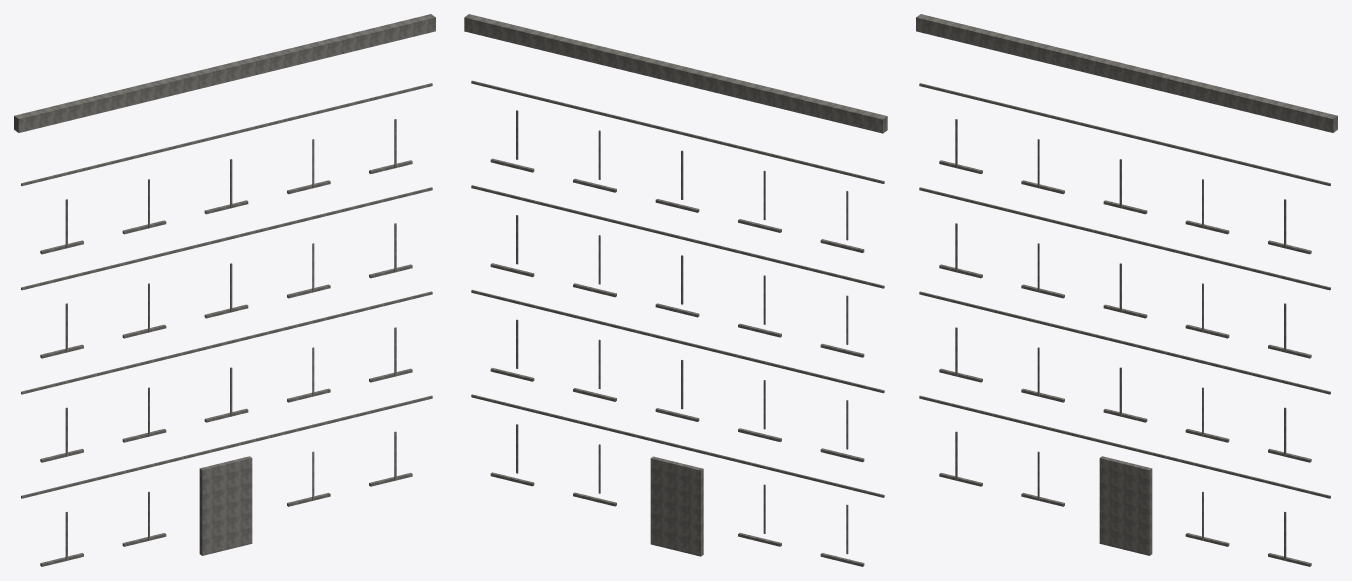
Rendered from Street_BlockR1_Trim.obj.
The picture shows the model from 3 angles, left to right: view 1: azimuth 30°, elevation 25°; view 2: azimuth 150°, elevation 25°; view 3: azimuth 330°, elevation 25°; orthographic projection.
Size of the model in its own units: 13.2 by 14.56 by 0.485.
1 material, 1 textured.
